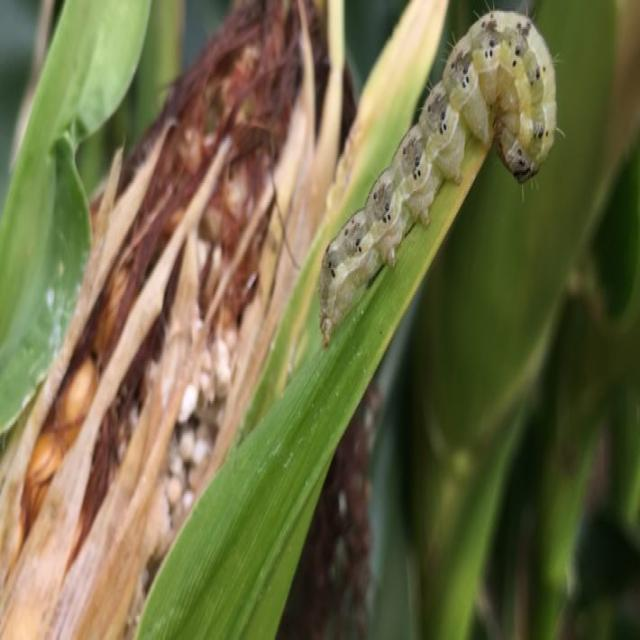worm: (318, 6, 566, 349)
